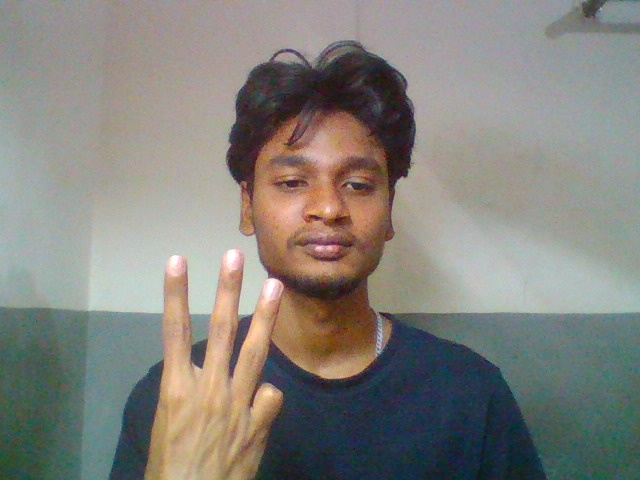W: (140, 245, 295, 480)
